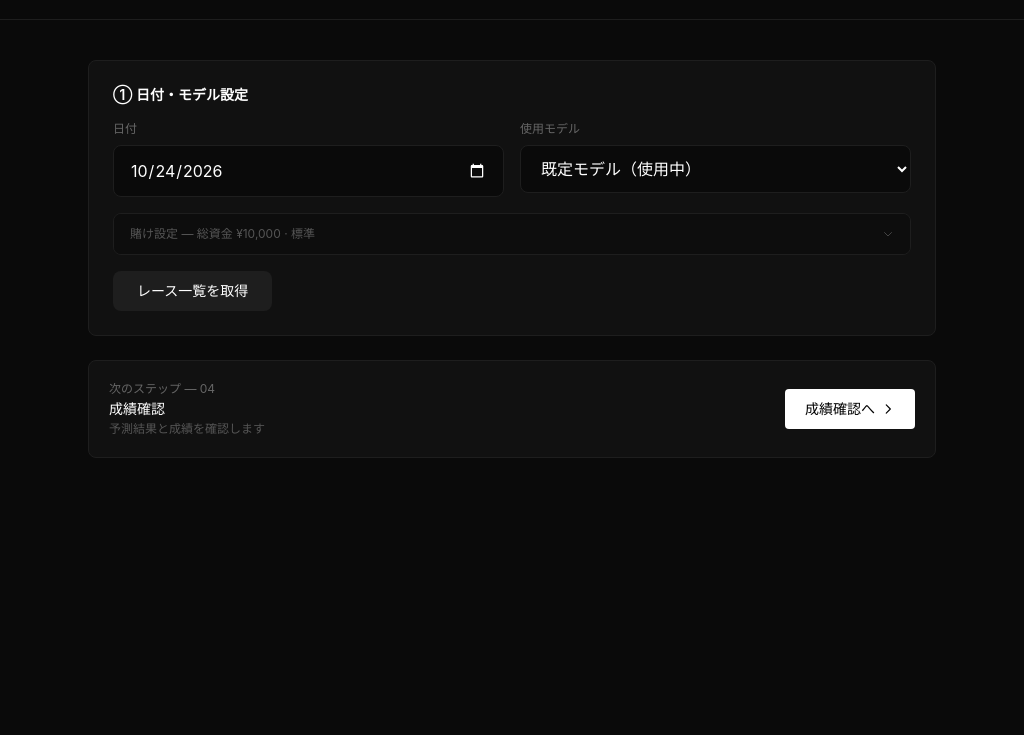
Test: batch latest saved-data prediction › shows changed data_revision as old output without purchase/EV authority
What coordinates should you click on to do the following:
click the button "レース一覧を取得"
I would click on:
 (193, 291)
Its box is [113, 271, 272, 311].
(page scrolled)
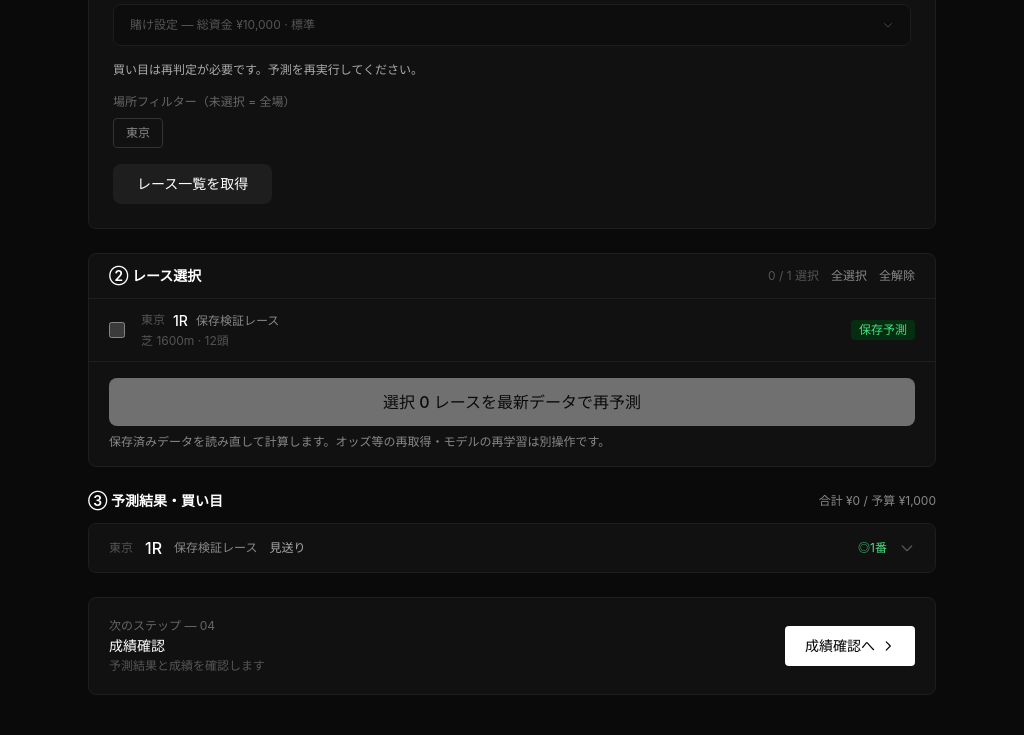
Expected: the checkbox is shown, [109, 322, 125, 338]
Expected: the text "合計 ¥0 / 予算 ¥1,000" is shown, [819, 493, 936, 509]
What coordinates should you click on to do the following:
click the button "東京 1R 保存検証レース 見送り ◎1番"
I would click on:
 (216, 548)
Its box is [89, 524, 935, 572].
(page scrolled)
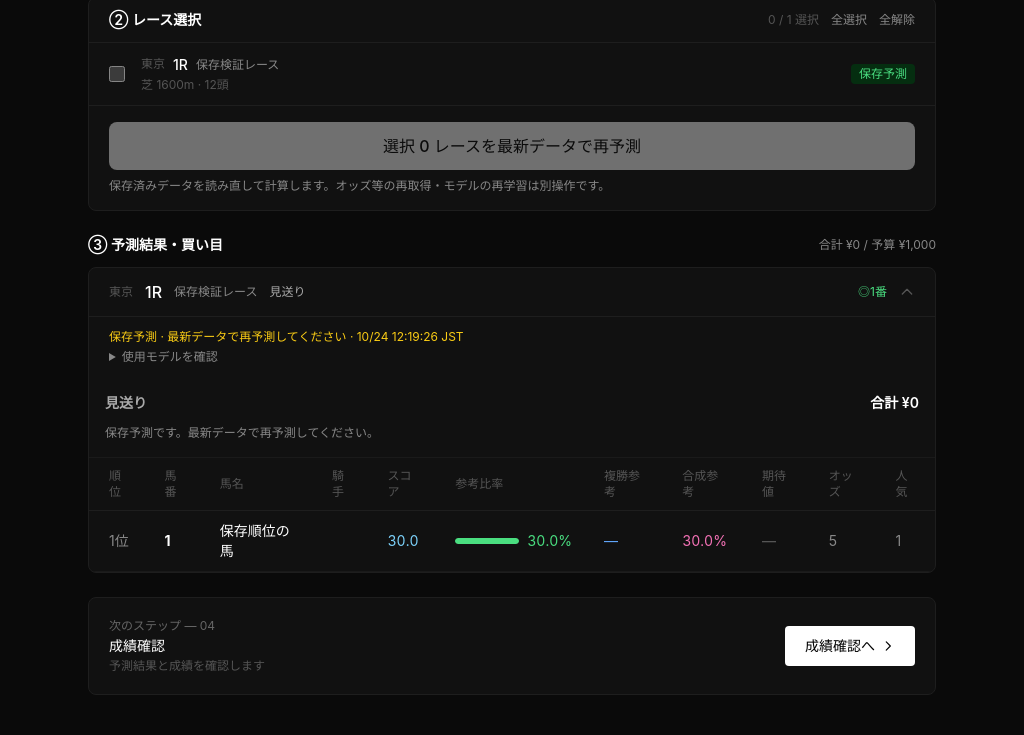
Expected: the message "保存予測 · 最新データで再予測してください · 10/24 12:19:26 JST 使用モデルを確認" is shown, [109, 329, 464, 364]
Expected: the message with test id "prediction-freshness-notice" shows "保存予測 · 最新データで再予測してください", [109, 329, 346, 344]
Expected: the text "保存順位の馬" is shown, [204, 510, 316, 572]
